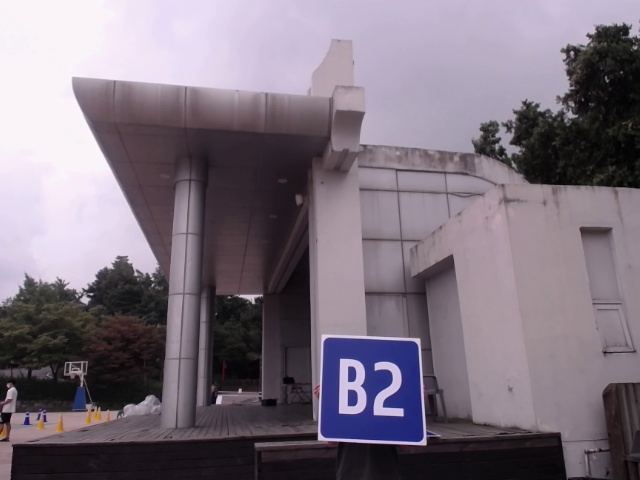delivery_b2: (321, 333, 428, 446)
